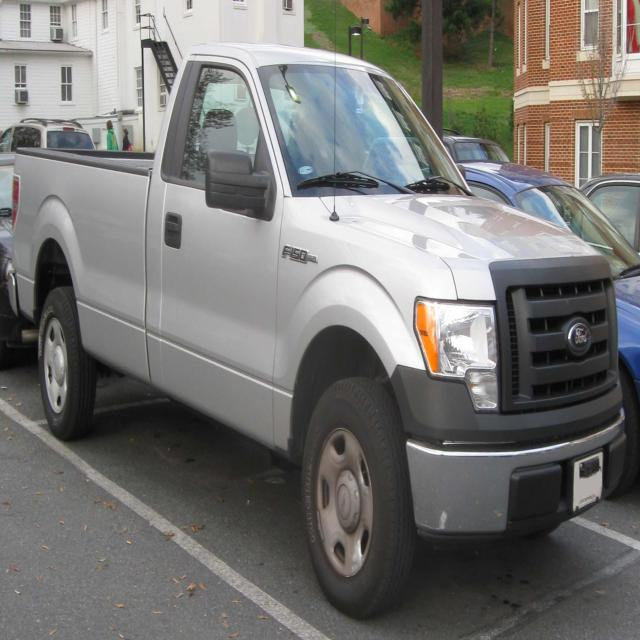Truck: (9, 35, 616, 553)
